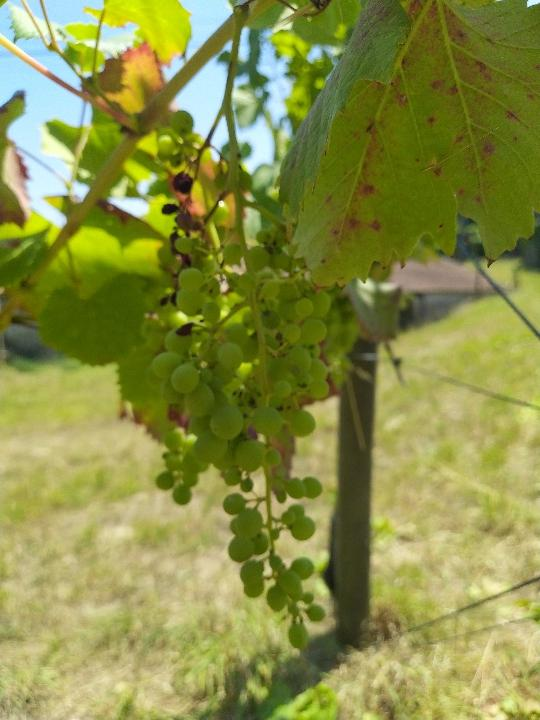grape: (146, 235, 337, 652)
